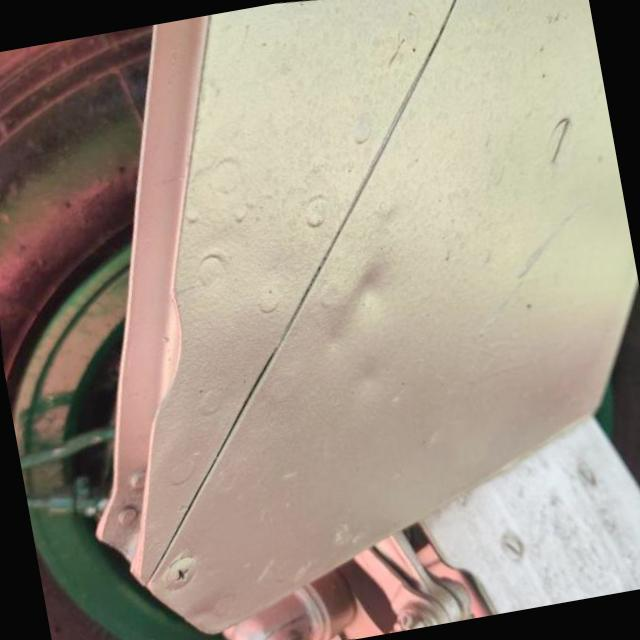dent: (294, 238, 417, 357), (130, 282, 220, 428)
